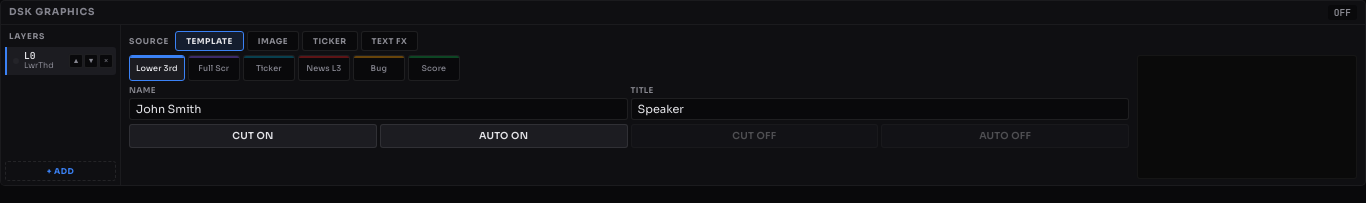
GraphicsPanel › should show image upload button after clicking IMAGE mode
Click the button with class "mode-btn" showing "IMAGE": click(273, 41) [247,31,299,51]
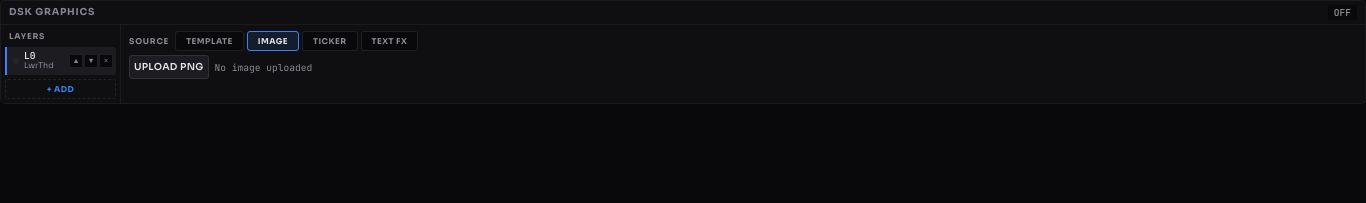
Now the button with class "act-btn" is shown, box [129,55,208,79]
